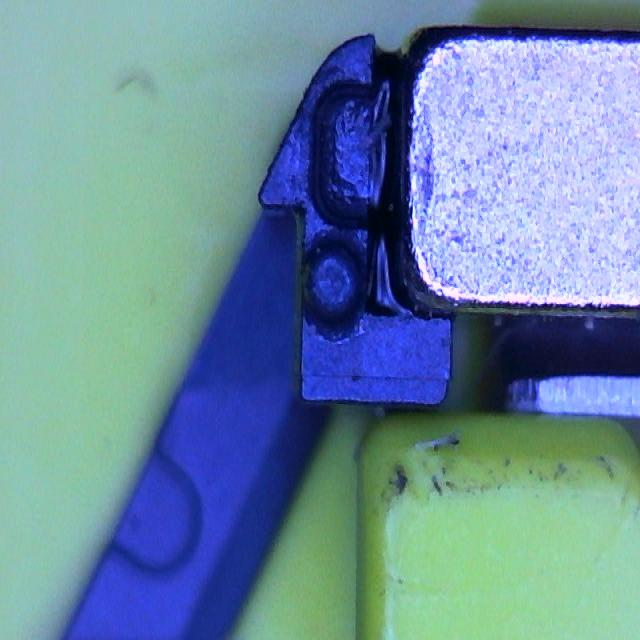over: (312, 73, 398, 235)
